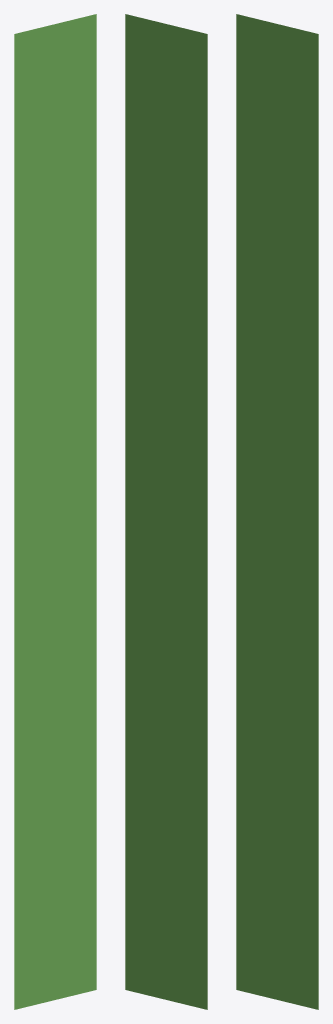
Rendered from stage_4_anthesis.gltf.
3 renders of one model, left to right at view 1: azimuth 30°, elevation 25°; view 2: azimuth 150°, elevation 25°; view 3: azimuth 330°, elevation 25°, orthographic.
Visible parts, largest first — view 1: plant_stage_4; view 2: plant_stage_4; view 3: plant_stage_4.
Part boxes in pixels (x1,y1,x2,y2): plant_stage_4: (14,14,96,1009); plant_stage_4: (125,14,207,1009); plant_stage_4: (236,14,318,1009).
Size of the model in its own units: 0.22 by 2.5 by 0.
